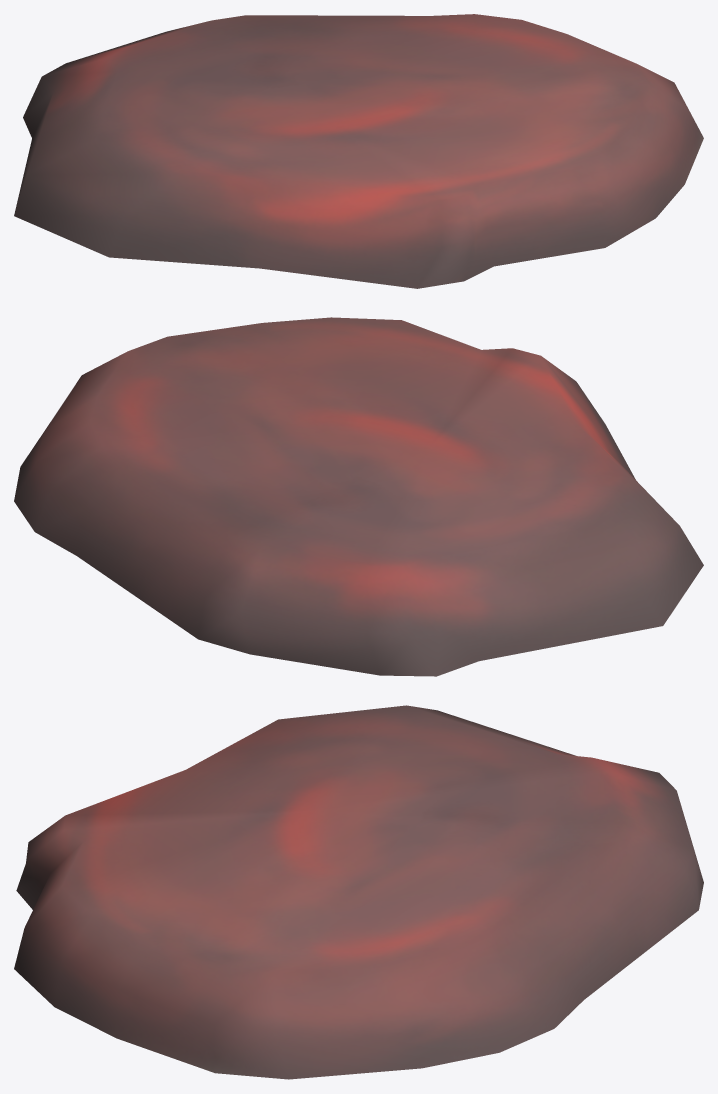
File: Lava_Drift.fbx
3 renders of one model, top to bottom at view 1: azimuth 30°, elevation 25°; view 2: azimuth 150°, elevation 25°; view 3: azimuth 270°, elevation 25°, orthographic. The views are drawn at different scales.
Parts seen in each view (by area): view 1: pCylinder3; view 2: pCylinder3; view 3: pCylinder3.
Part boxes in pixels (x1,y1,x2,y2): pCylinder3: (14,14,703,288); pCylinder3: (14,317,703,676); pCylinder3: (14,705,703,1079).
Size of the model in its own units: 27.84 by 2.87 by 23.71.
